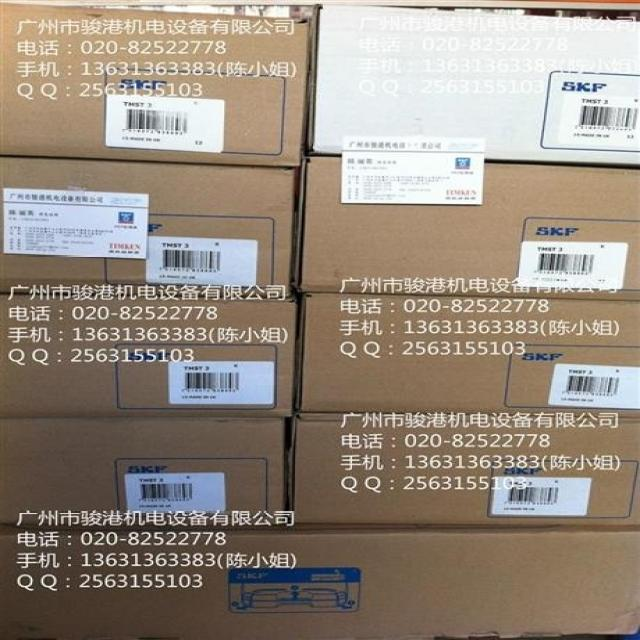box: (1, 524, 639, 640), (306, 6, 640, 168), (0, 1, 310, 168), (294, 157, 639, 301), (295, 292, 639, 418), (0, 156, 299, 299), (287, 412, 639, 527), (0, 293, 296, 418), (1, 417, 294, 530)
